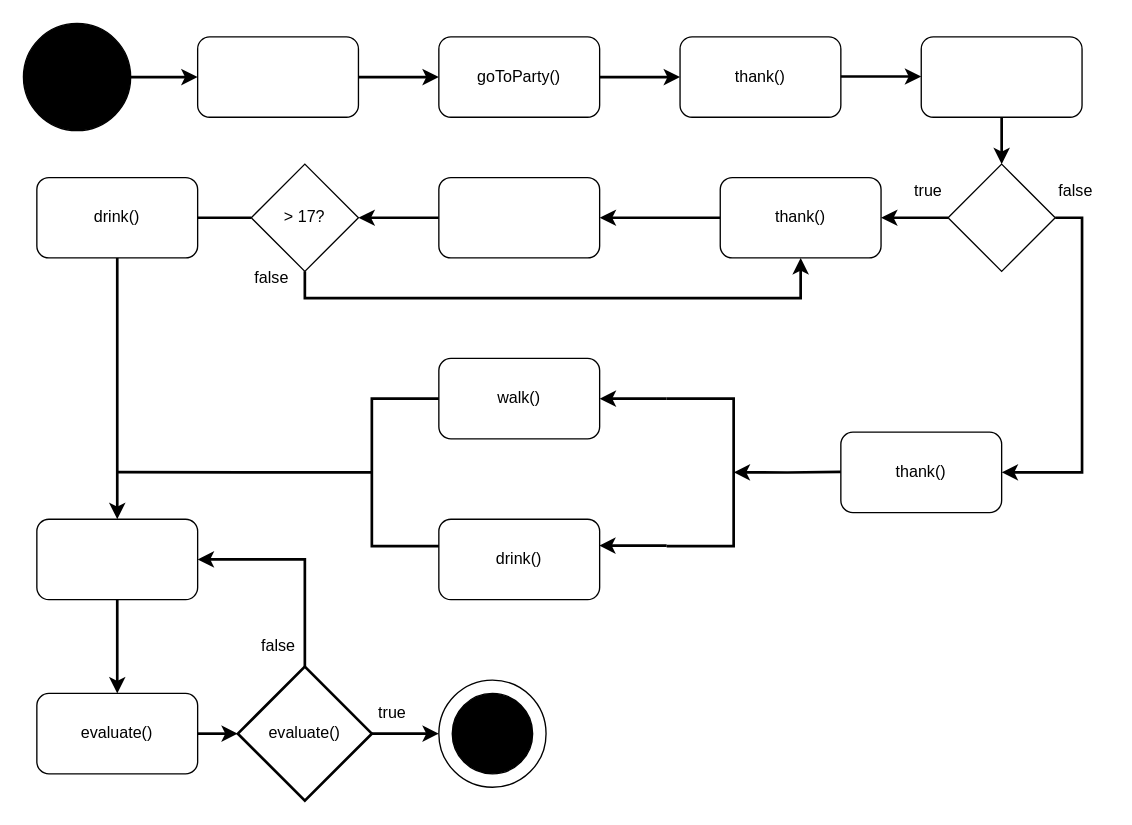
This 1132x825 diagram has some shape labels left out. Each missing label, with the centre of its shape:
"drawStraw()" belongs at (1001,76).
"getDressed()" belongs at (277,76).
"rollDice()" belongs at (519,217).
"short?" belongs at (1001,217).
"sing()" belongs at (117,559).
